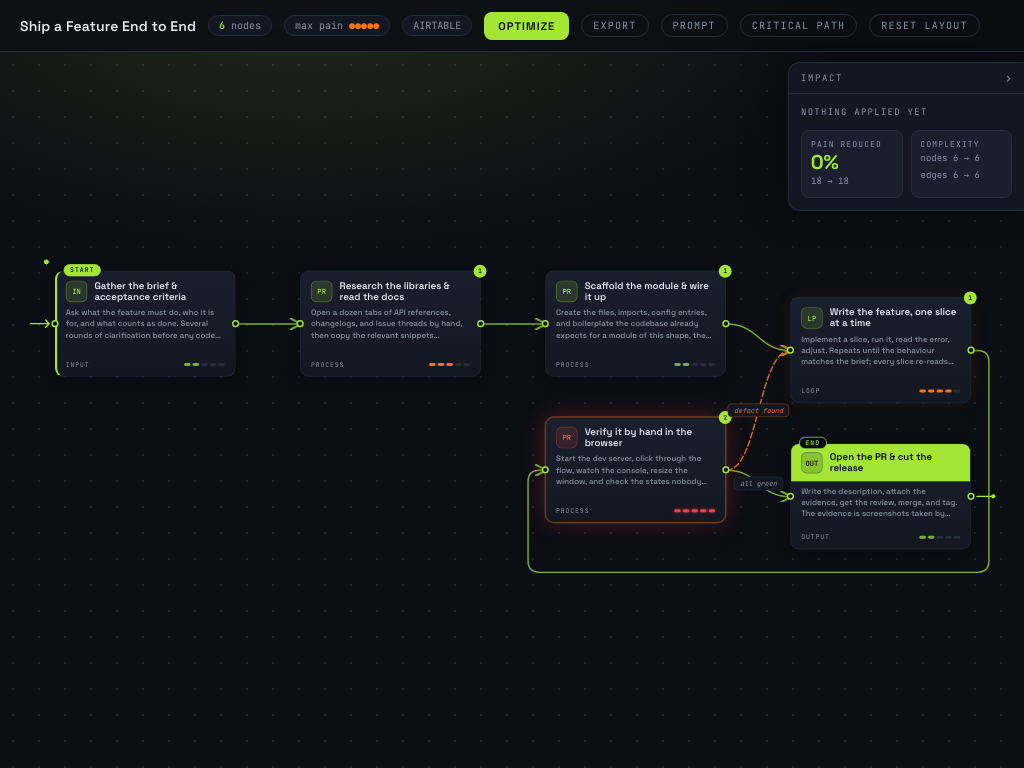
opens the window from PROMPT at any cursor — V0 included, honestly
Click the button with test id "prompt-btn" at [694, 26], box [660,14,728,37]
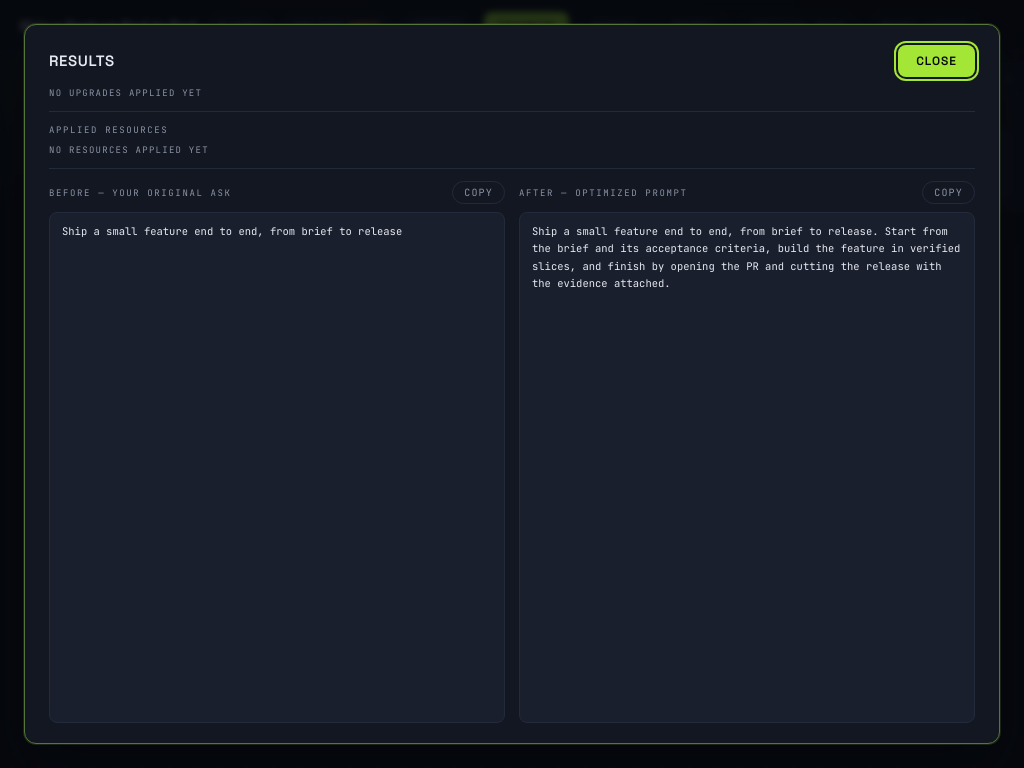
Check: the dialog with test id "results-window" is shown
Check: the text with test id "results-none" reads "NO UPGRADES APPLIED YET", box [49,87,202,99]
Check: the text with test id "results-rows-none" reads "NO RESOURCES APPLIED YET", box [49,144,209,156]
Click the button with test id "results-close" at [937, 61], box [898,45,975,77]
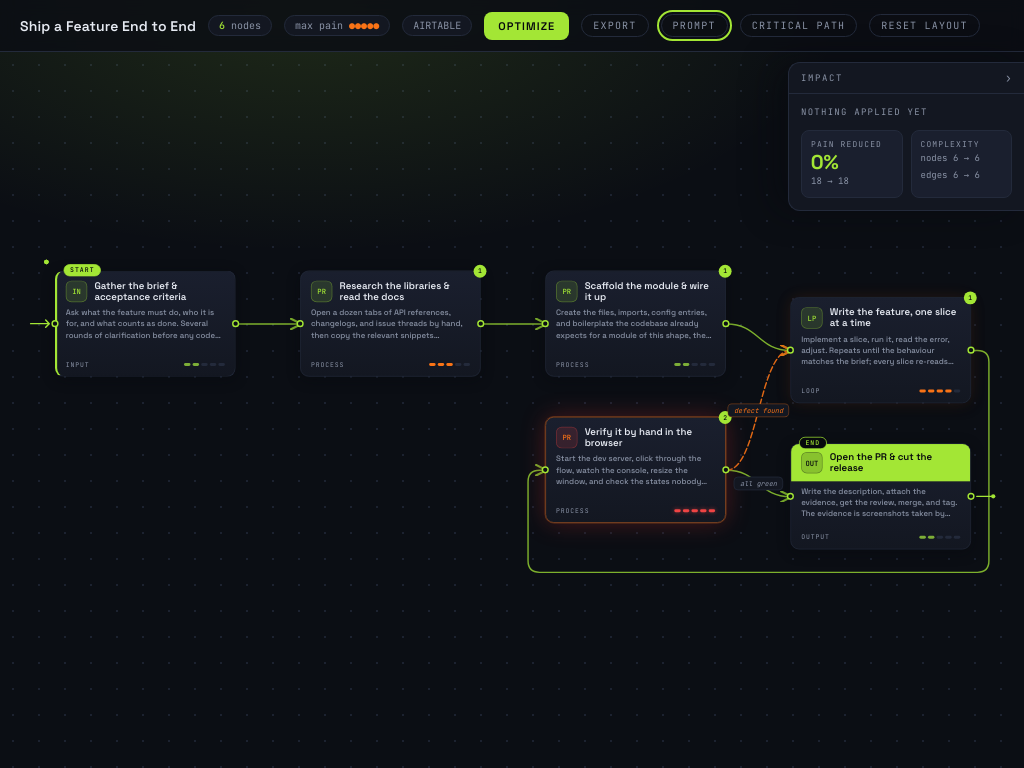
Check: the dialog with test id "results-window" is gone
